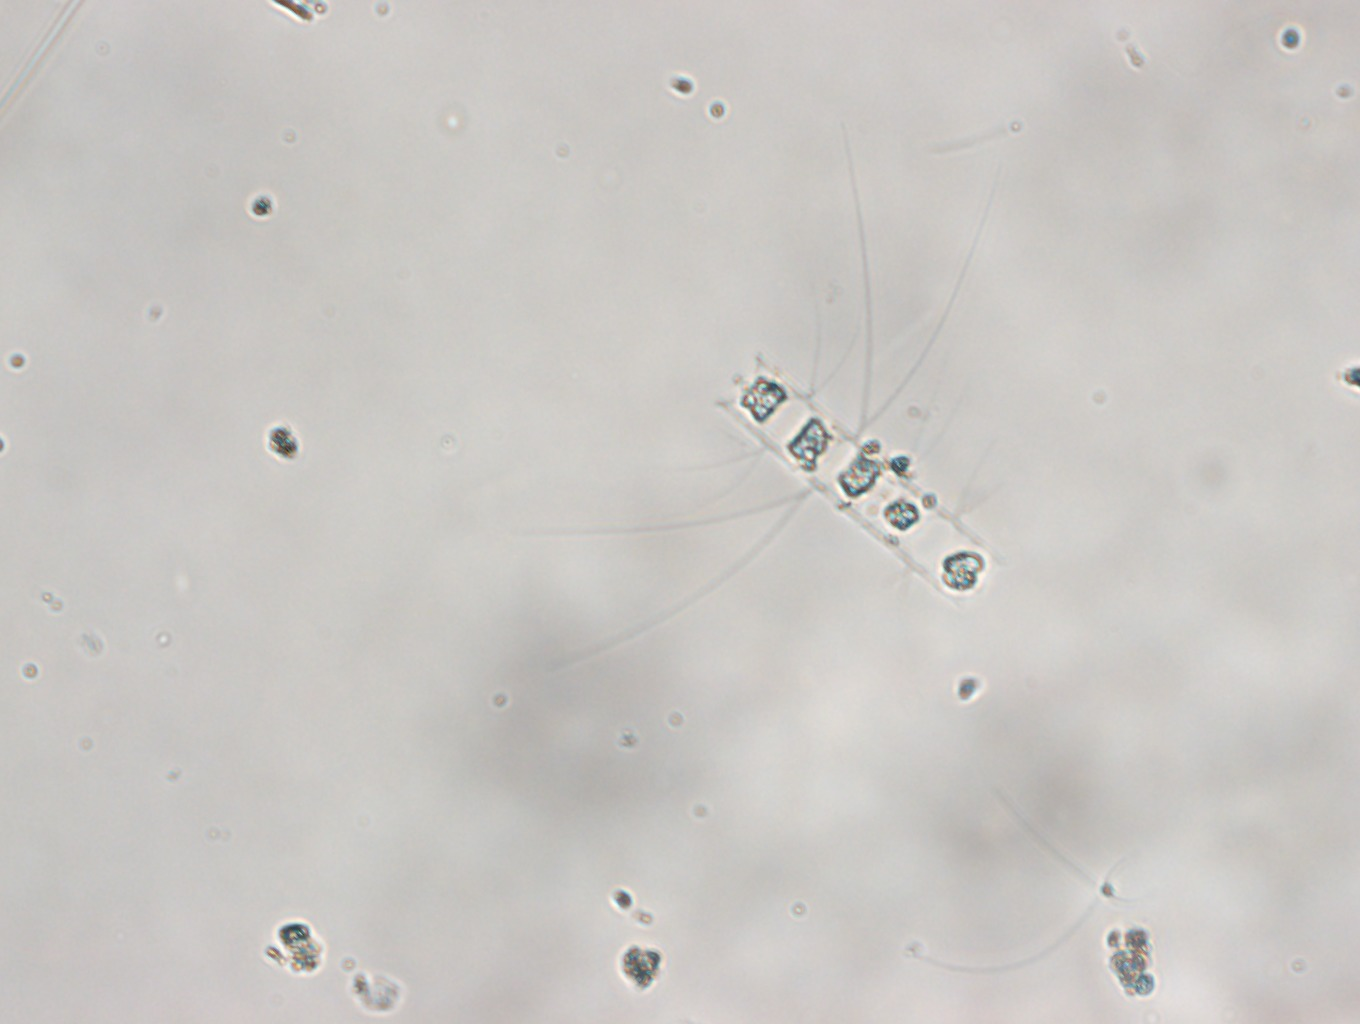chaetoceros: (556, 167, 1028, 656)
